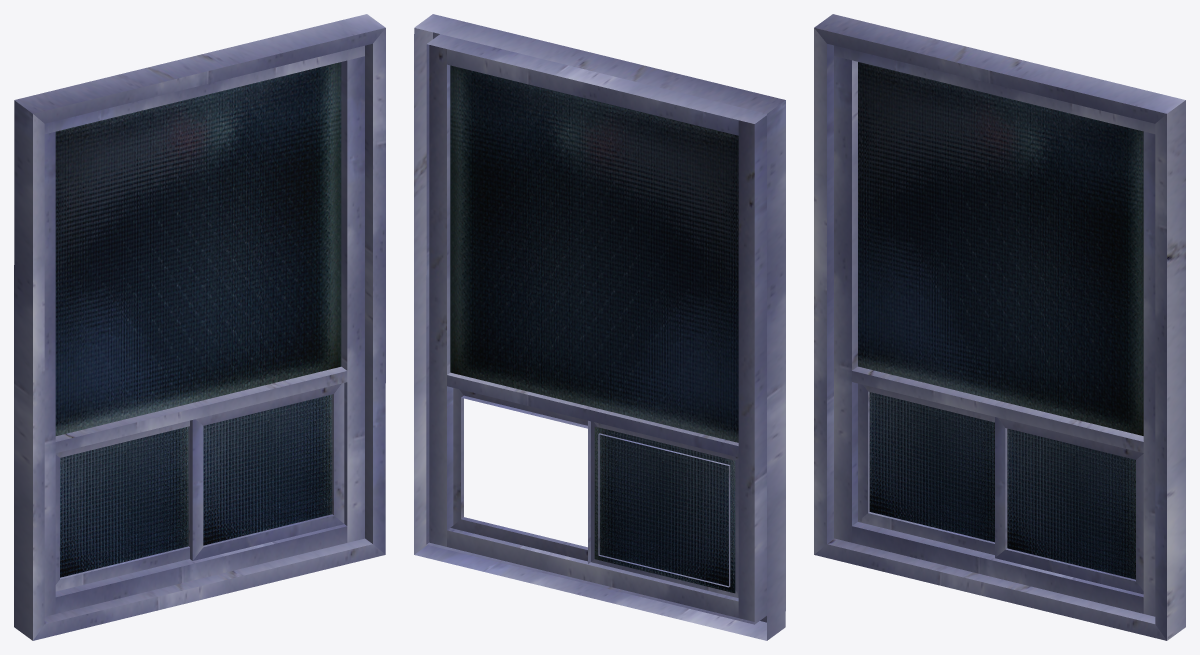
The model's file is Window_0.8m_003.fbx.
3 renders of one model, left to right at view 1: azimuth 30°, elevation 25°; view 2: azimuth 150°, elevation 25°; view 3: azimuth 330°, elevation 25°, orthographic.
Parts seen in each view (by area): view 1: Window_0.8m_003; view 2: Window_0.8m_003; view 3: Window_0.8m_003.
Boxes of the visible parts, x1=… form: Window_0.8m_003: x1=14, y1=14, x2=385, y2=640; Window_0.8m_003: x1=414, y1=14, x2=785, y2=640; Window_0.8m_003: x1=814, y1=14, x2=1185, y2=640.
Size of the model in its own units: 56.05 by 80 by 5.2.
Materials: 1 (1 with a texture image).
